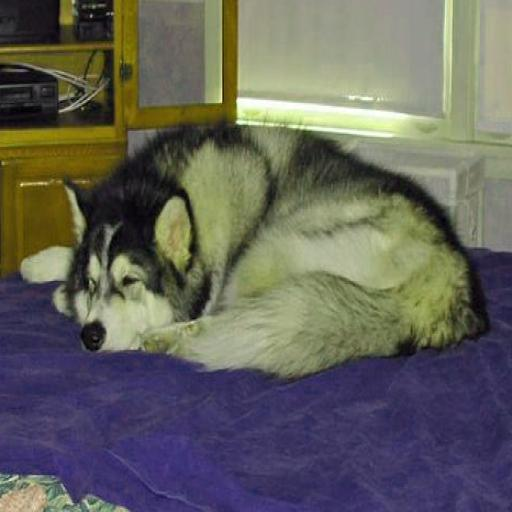dog_face: (58, 182, 199, 360)
